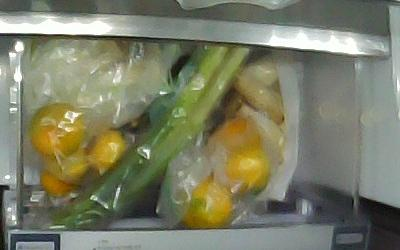tangerine_vinyl: (27, 101, 86, 156), (180, 178, 232, 228), (203, 114, 261, 157), (222, 150, 269, 196), (41, 145, 89, 182), (84, 128, 125, 169), (38, 166, 71, 195)
